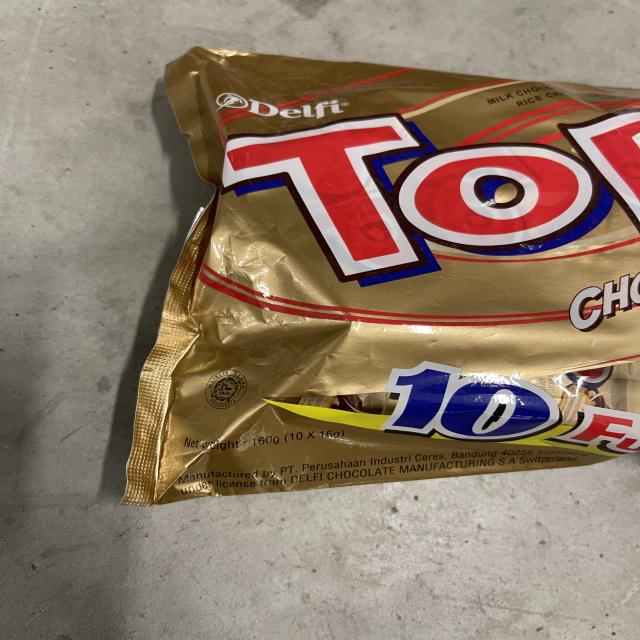object_name: (152, 48, 640, 475)
